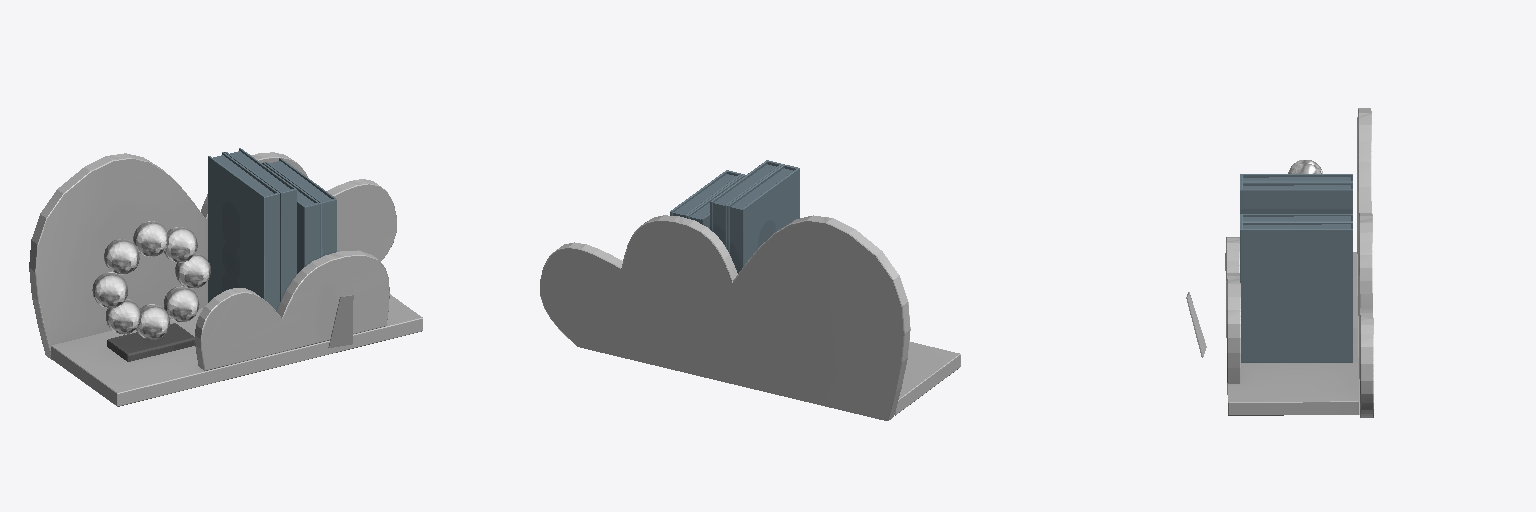
The picture shows the model from 3 angles: view 1: azimuth 30°, elevation 25°; view 2: azimuth 150°, elevation 25°; view 3: azimuth 270°, elevation 25°; orthographic projection.
Visible parts, largest first — view 1: solid_003, solid_004, solid_005, solid_002, solid_001; view 2: solid_003, solid_004; view 3: solid_004, solid_003.
Boxes of the visible parts, <box> form: solid_003: <box>29,152,422,406</box>; solid_004: <box>208,148,336,311</box>; solid_005: <box>92,221,210,339</box>; solid_002: <box>107,323,194,361</box>; solid_001: <box>328,295,353,347</box>; solid_003: <box>540,215,960,420</box>; solid_004: <box>670,160,799,273</box>; solid_004: <box>1240,174,1352,362</box>; solid_003: <box>1225,108,1373,417</box>.
Bounding box in the file's own units: 0.6494 × 0.3146 × 0.2903.
Materials: 1 (1 with a texture image).